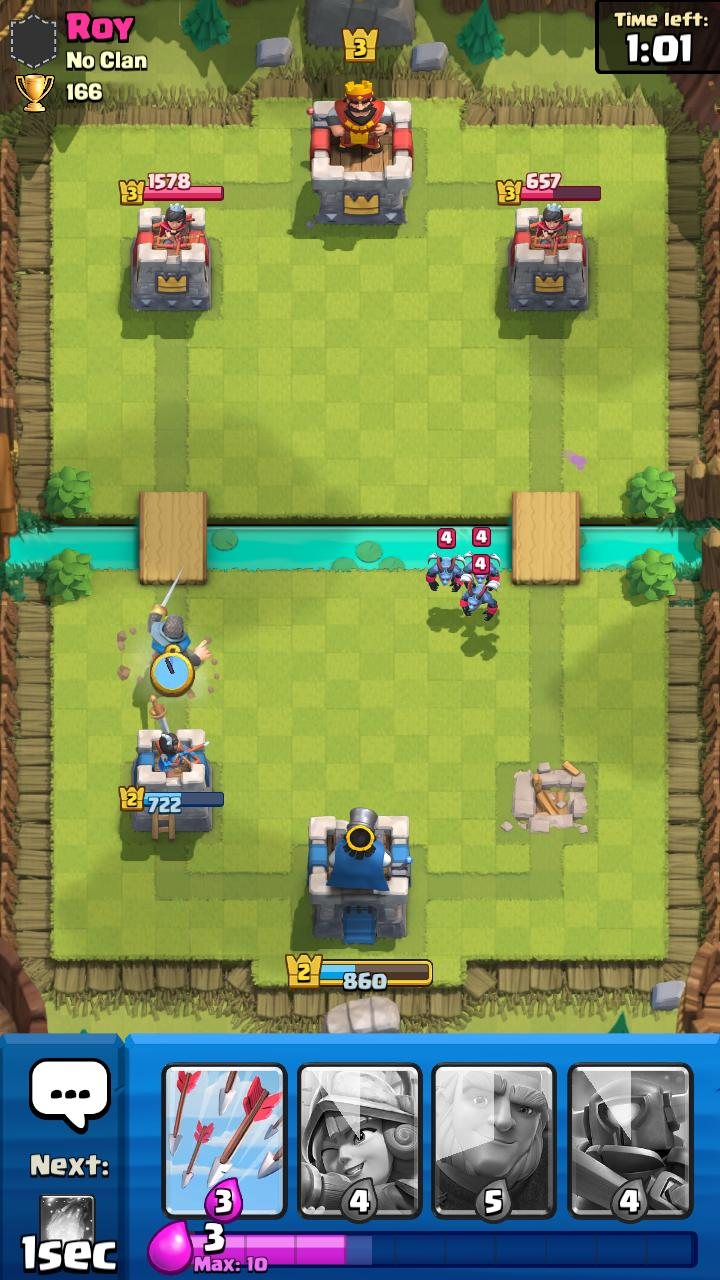ally: (148, 566, 213, 666)
enemy: (459, 554, 501, 621), (425, 528, 464, 592), (463, 527, 501, 591)
